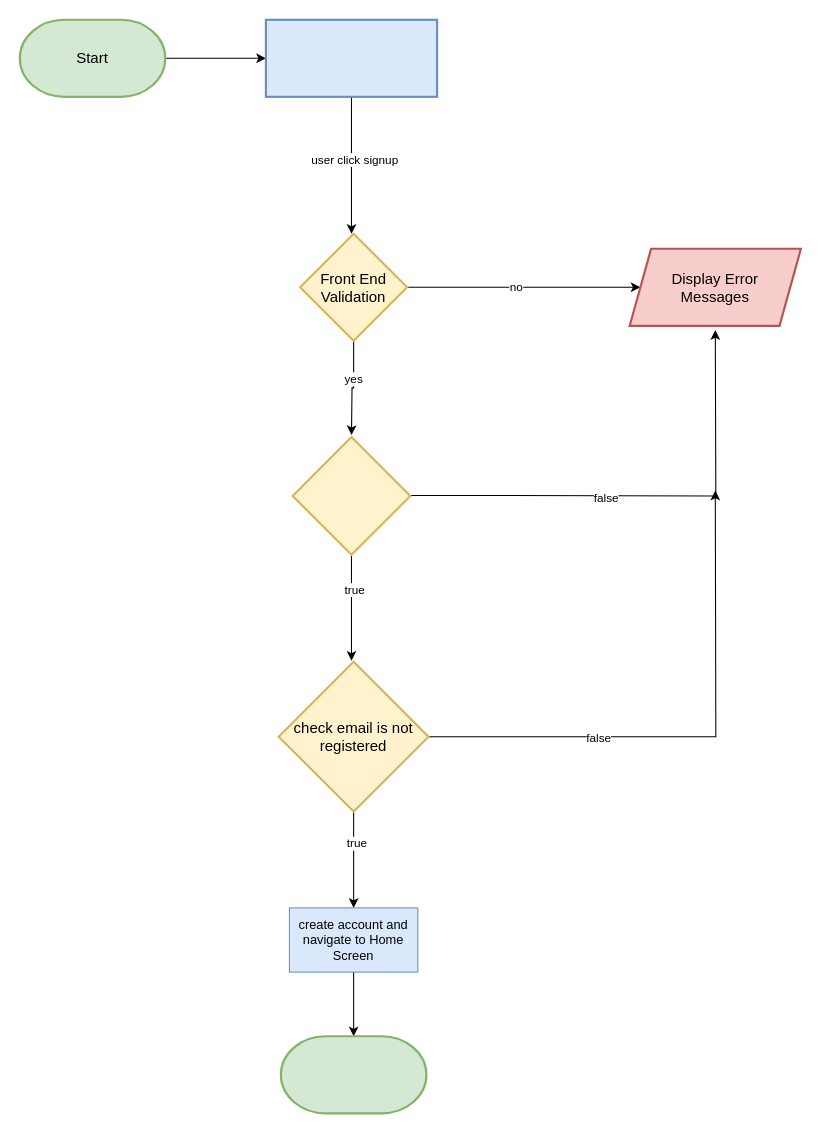
Some shapes in this 820 by 1132 pixel diagram are drawn without their labels. The shapes that lost their labels are listed below. From the top down, each one's box as (x1, y1, x2, y2) in pixels, then its label:
(264, 18, 438, 97): Enter Personal details and Home code
(291, 435, 411, 555): DB validate homecode
(279, 1035, 427, 1114): End
